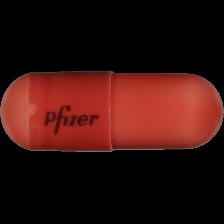50436-6528: (0, 0, 224, 224)
